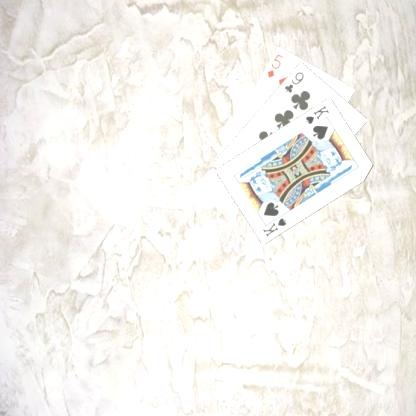5D: (264, 51, 284, 79)
9C: (282, 69, 306, 94)
KS: (260, 210, 287, 238), (303, 102, 330, 125)
